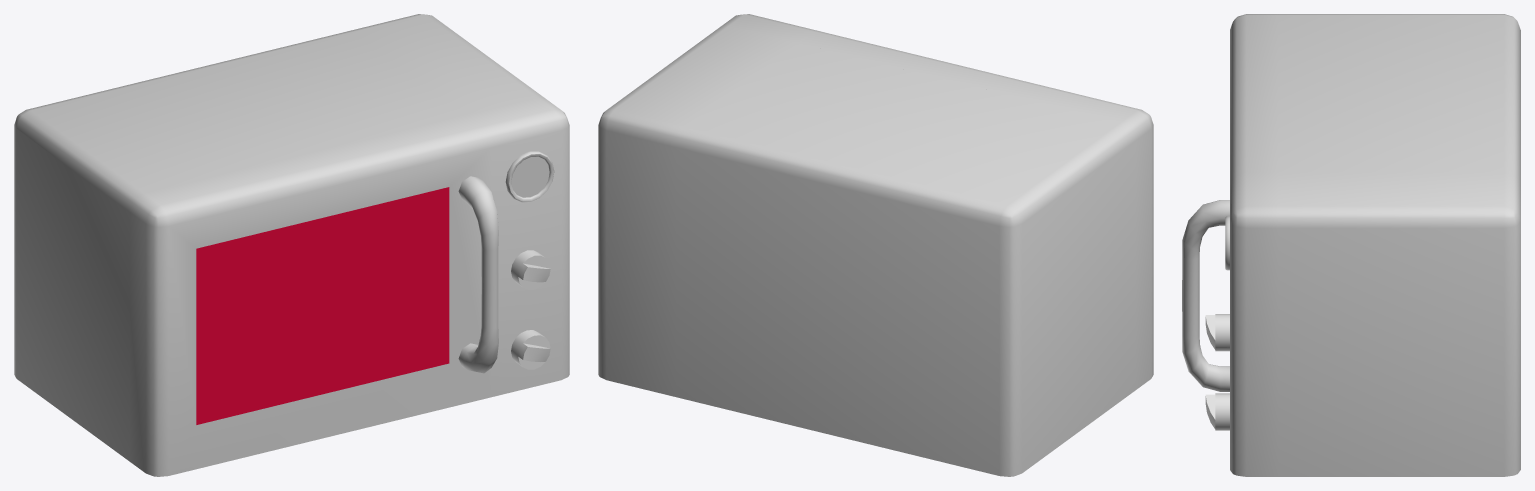
The model's file is magnetron.fbx.
3 renders of one model, left to right at view 1: azimuth 30°, elevation 25°; view 2: azimuth 150°, elevation 25°; view 3: azimuth 270°, elevation 25°, orthographic.
Parts seen in each view (by area): view 1: Cube.001, Cube, Cylinder.001, Cylinder; view 2: Cube, Cube.001; view 3: Cube, Cube.001, Cylinder, Cylinder.001.
Boxes of the visible parts, x1,y1,x2,y2 form: Cube.001: [130, 115, 498, 476]; Cube: [14, 14, 569, 461]; Cylinder.001: [511, 250, 550, 289]; Cylinder: [511, 330, 550, 369]; Cube: [598, 14, 1135, 476]; Cube.001: [798, 31, 1153, 389]; Cube: [1225, 14, 1520, 476]; Cube.001: [1182, 14, 1278, 391]; Cylinder: [1205, 393, 1229, 430]; Cylinder.001: [1205, 314, 1229, 351].
Bounding box in the file's own units: 5 × 3.1 × 3.49.
